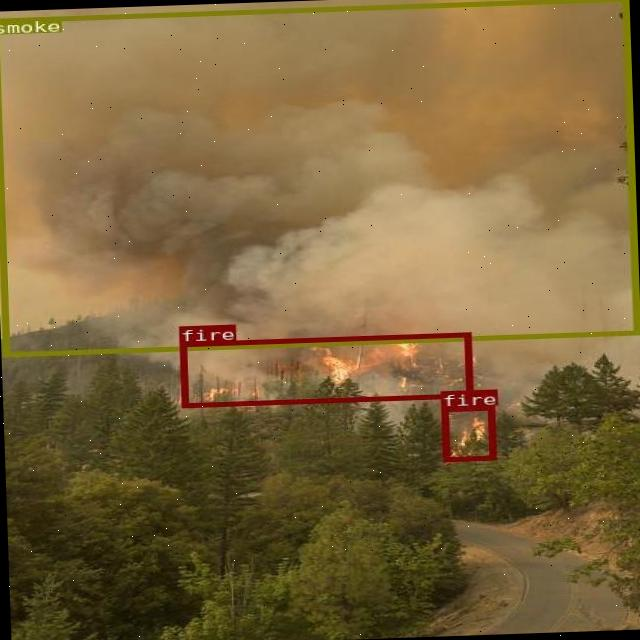fire: (178, 332, 471, 407), (441, 404, 494, 461)
smoke: (0, 0, 637, 355)
